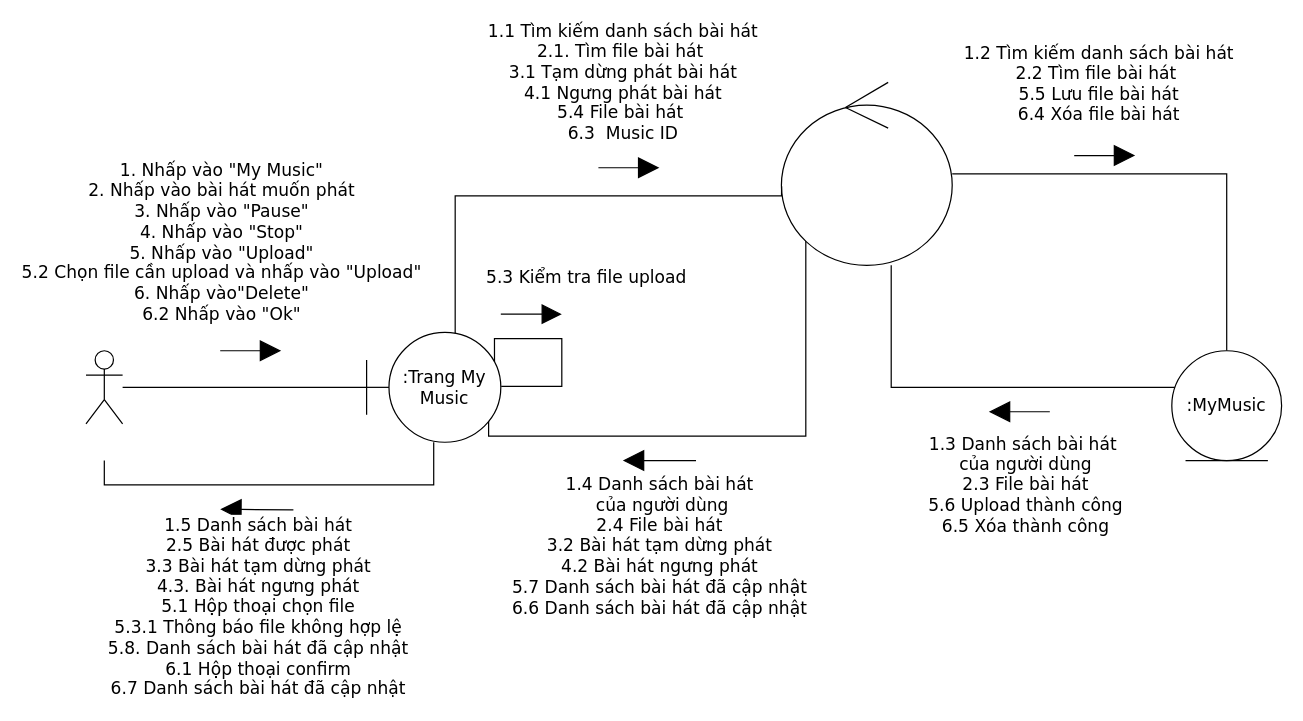
Image size: 1303x721. Some labels were removed from this diagram. The centre of each missing label's shape, as x and y in pixels:
":User" belongs at point 104,387.
"MyMusic:MyMusic Controller" belongs at point 866,173.
